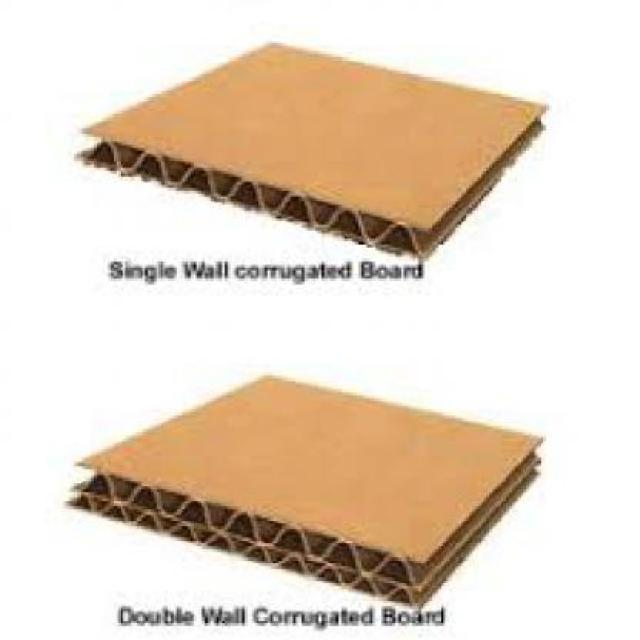CARDBOARD: (65, 372, 538, 603), (71, 42, 543, 253)
